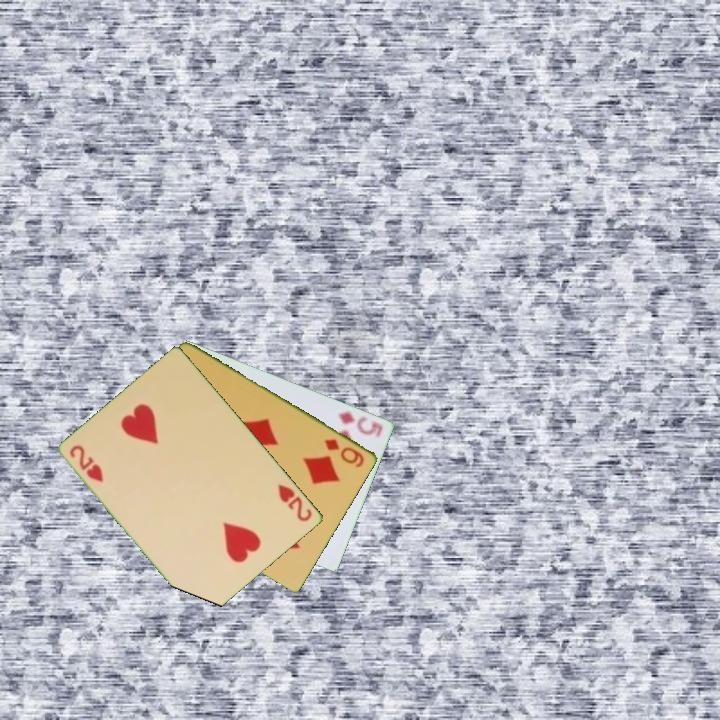2h: (66, 442, 107, 485), (275, 481, 315, 525)
5d: (335, 407, 386, 440)
6d: (321, 435, 368, 470)
